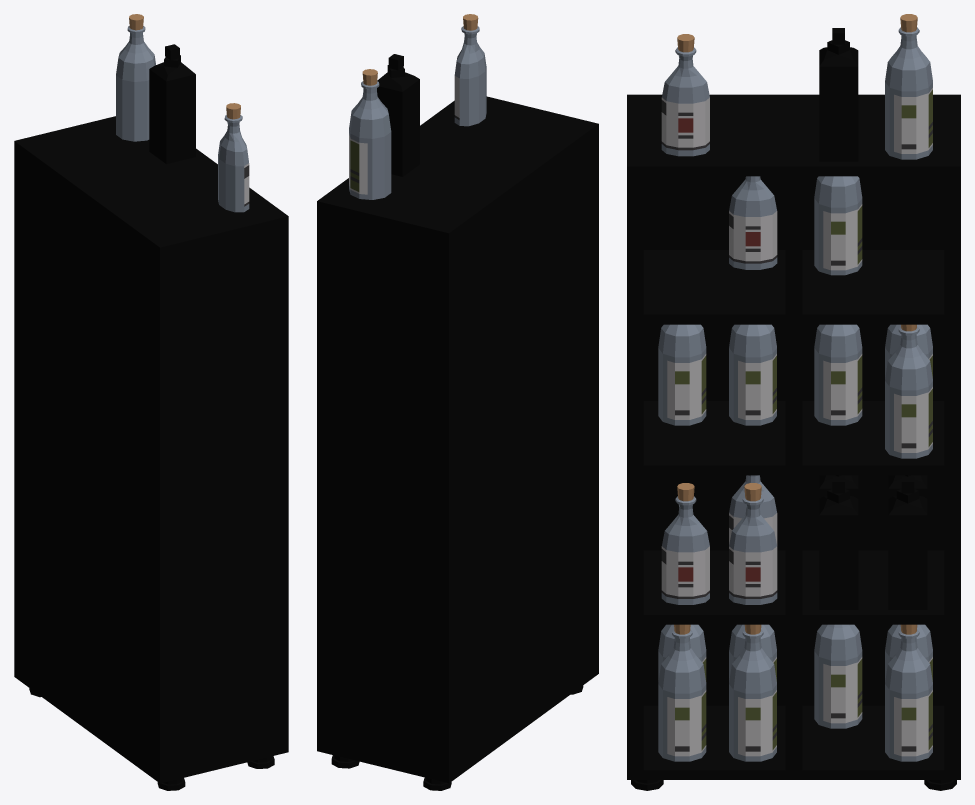
File: SM_liquorStoreShelve_01.glb
3 renders of one model, left to right at view 1: azimuth 30°, elevation 25°; view 2: azimuth 150°, elevation 25°; view 3: azimuth 270°, elevation 25°, orthographic. The views are drawn at different scales.
Visible parts, largest first — view 1: SM_liquorStoreShelve_01; view 2: SM_liquorStoreShelve_01; view 3: SM_liquorStoreShelve_01.
Part boxes in pixels (x1,y1,x2,y2): SM_liquorStoreShelve_01: (14, 14, 288, 790); SM_liquorStoreShelve_01: (317, 14, 598, 790); SM_liquorStoreShelve_01: (627, 14, 960, 790).
Bounding box in the file's own units: 0.52 × 2.57 × 1.02.
Materials: 1 (1 with a texture image).
